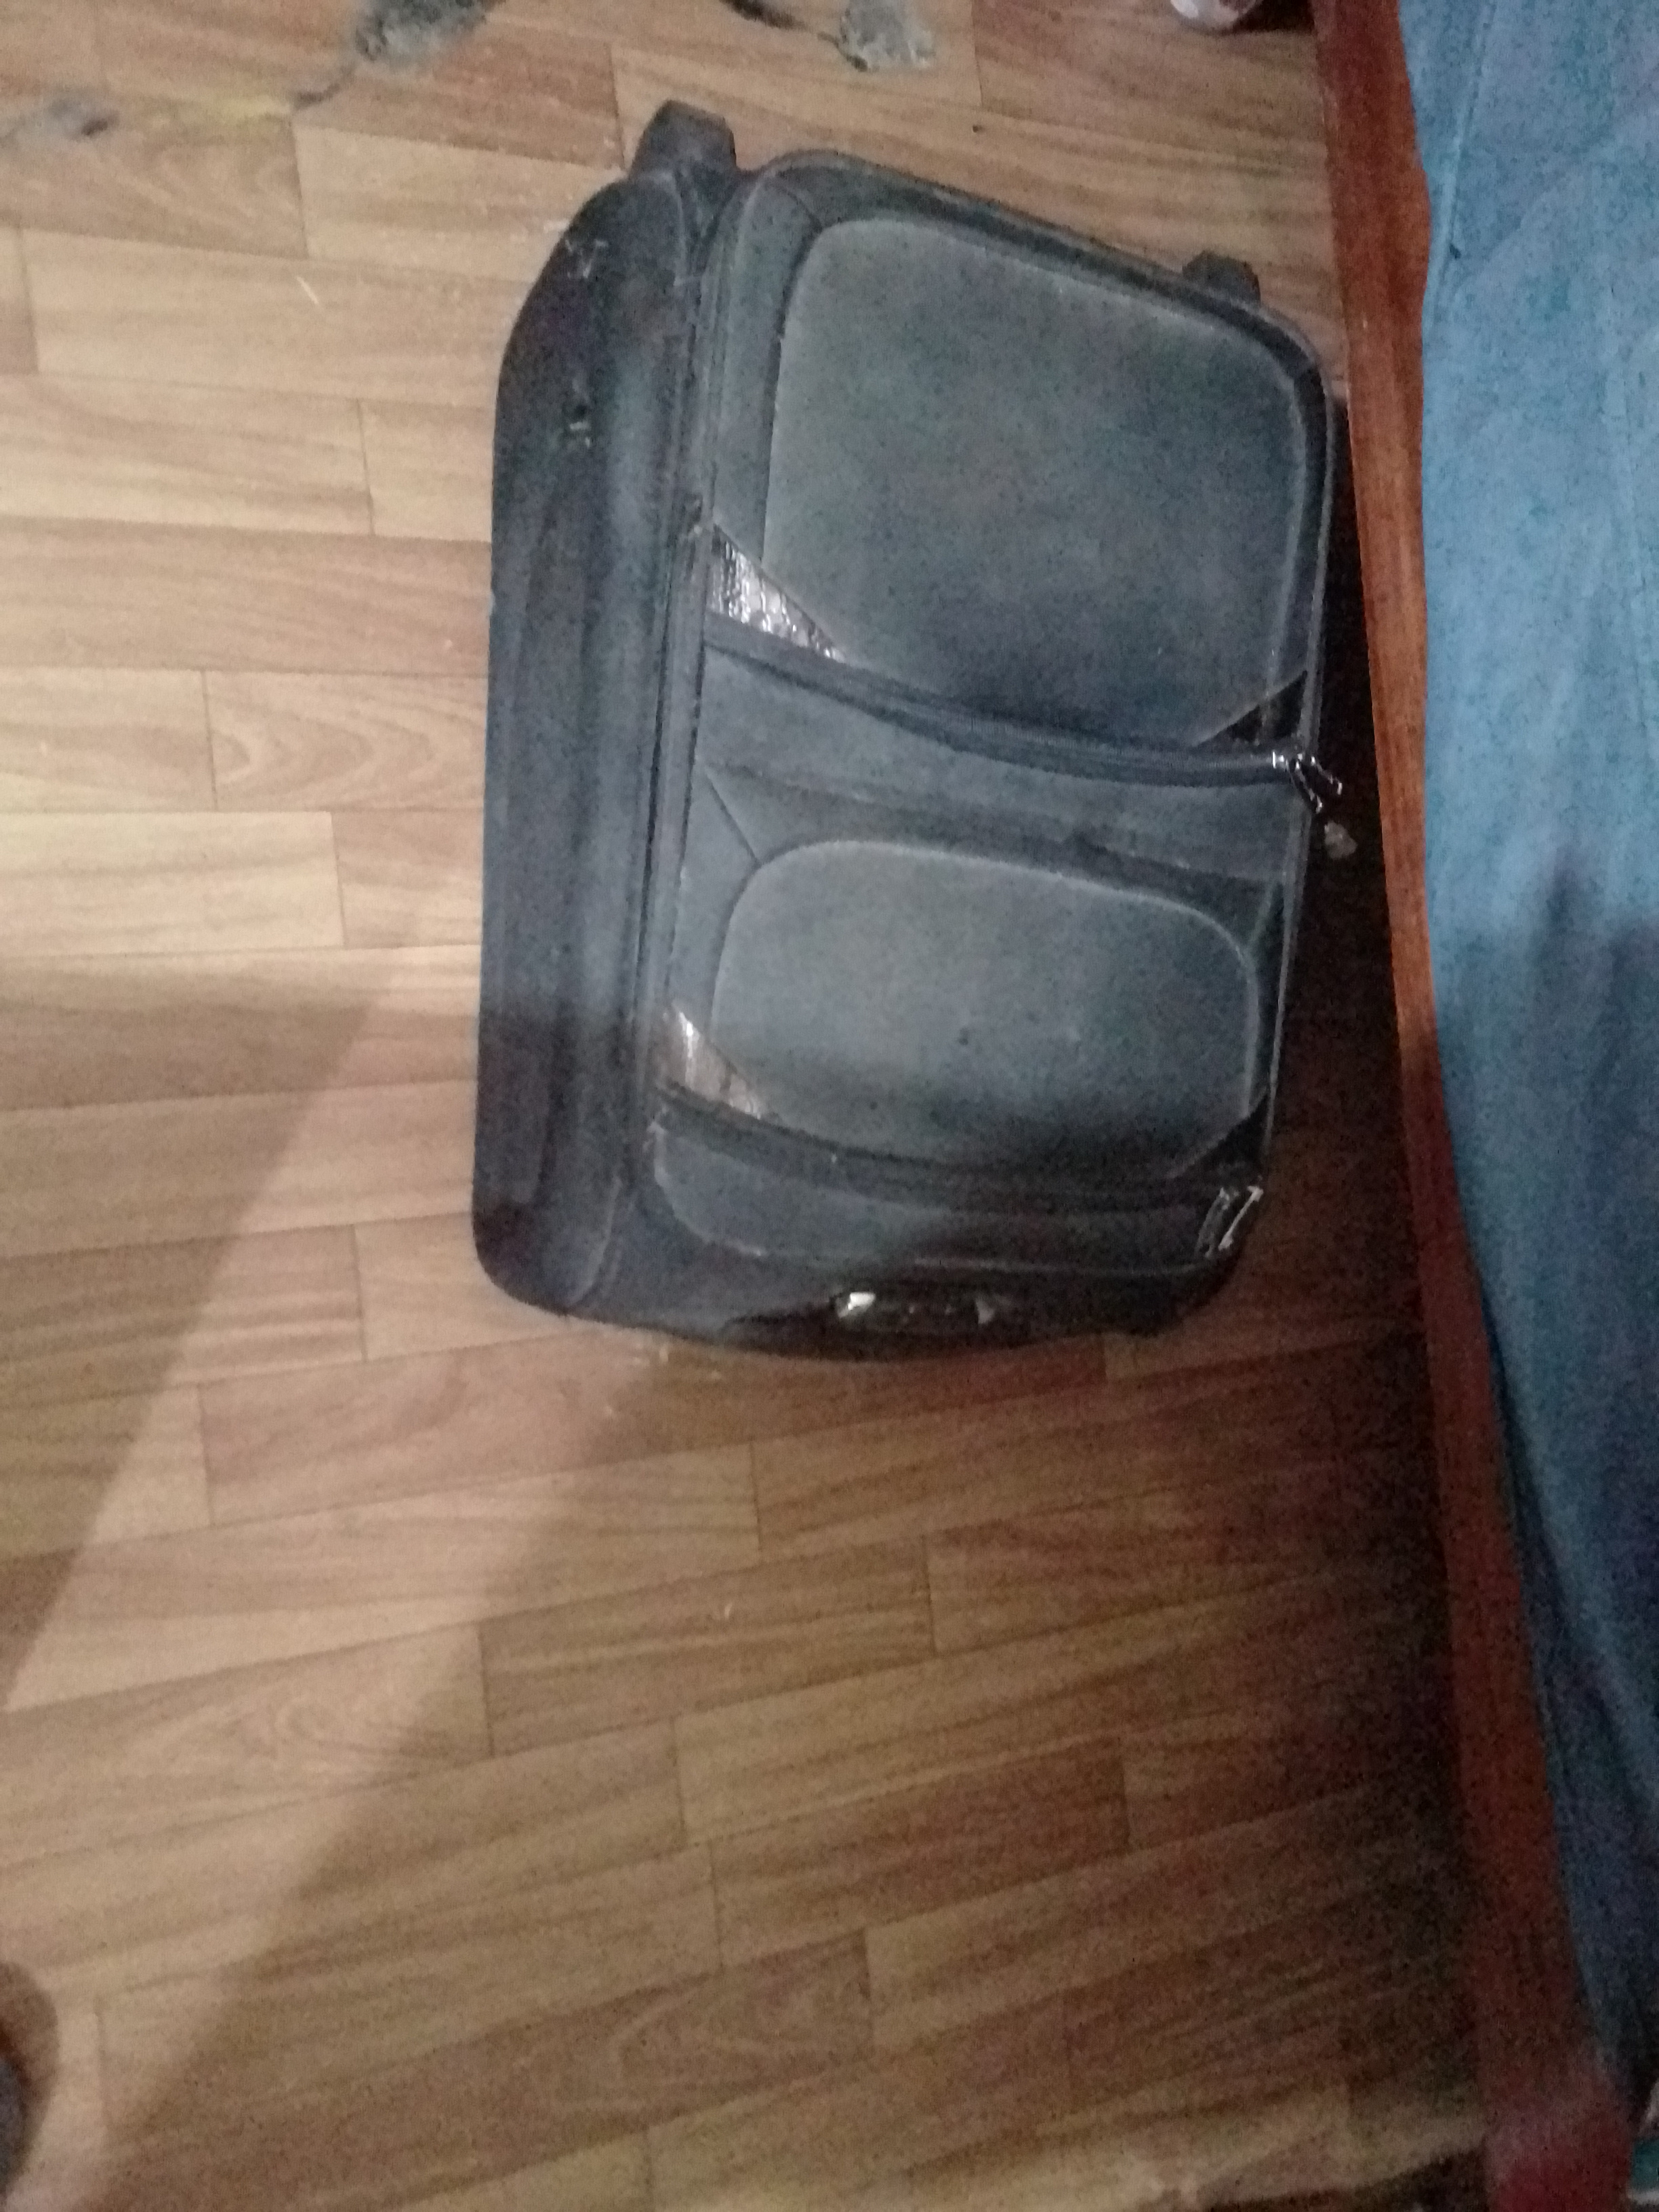suitcase: (457, 85, 1366, 1378)
